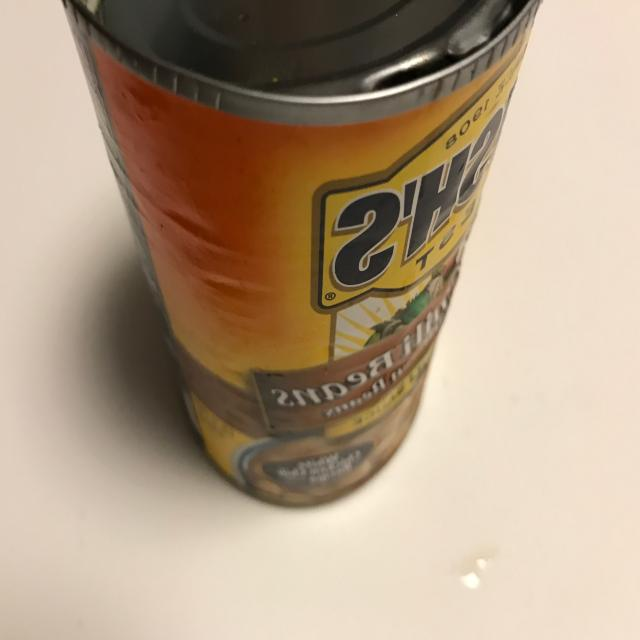metal: (51, 0, 554, 509)
